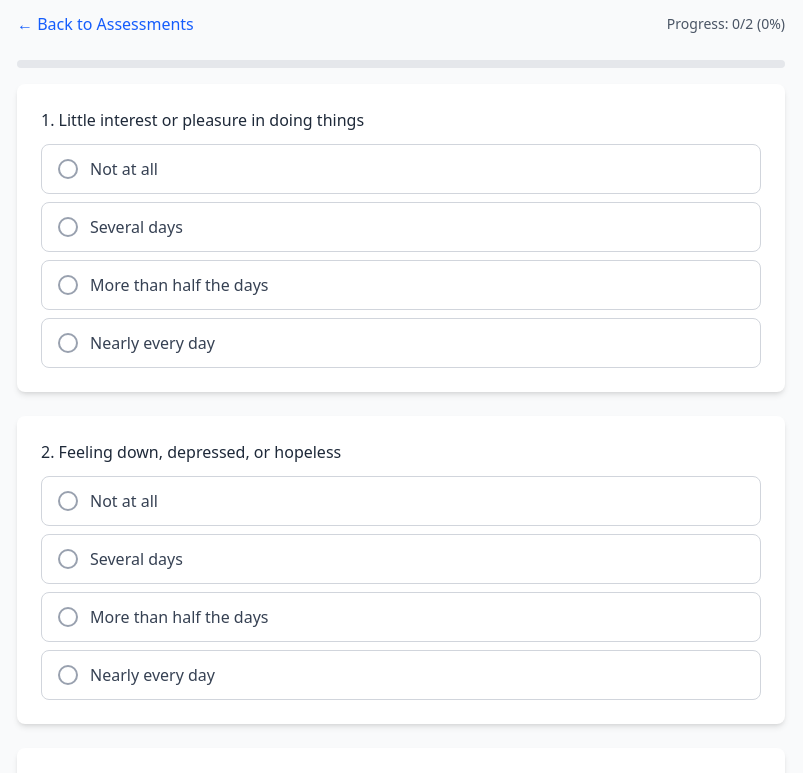
Test: AssessmentForm › Progress Tracking › should show 100% when all questions answered
This screenshot has width=803, height=773.
// Answer first question (first option)
Click the 1st radio button labelled "Not at all".
click(124, 169)  # box 41,144 -> 761,194
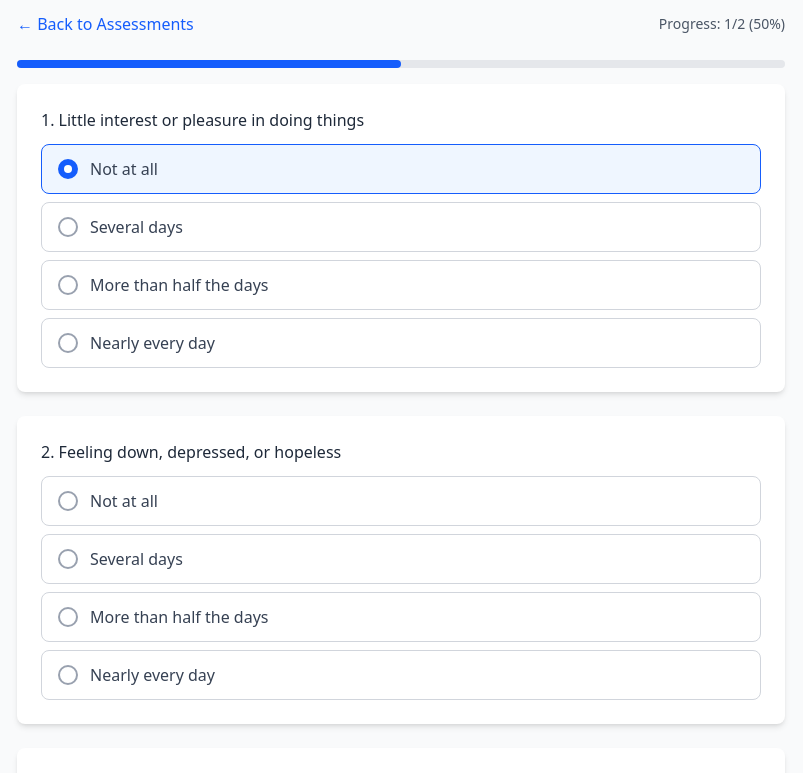
// Answer second question (first option of second set)
Click the radio button labelled "Not at all" below "2. Feeling down, depressed, or hopeless".
click(124, 501)  # box 41,476 -> 761,526
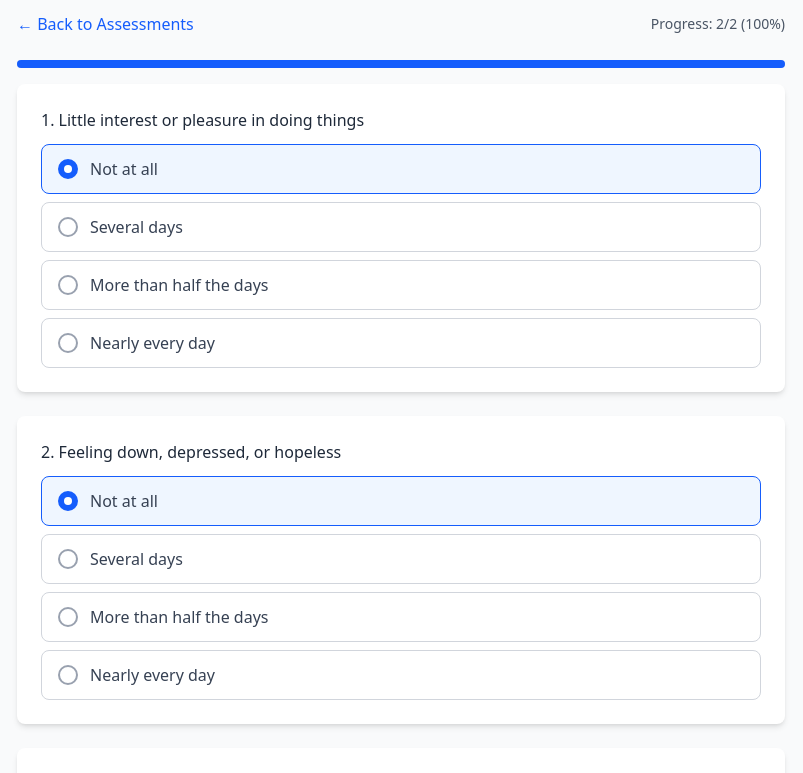
Expected: the text "Progress: 2/2 (100%)" is shown, 651,14 -> 785,34
